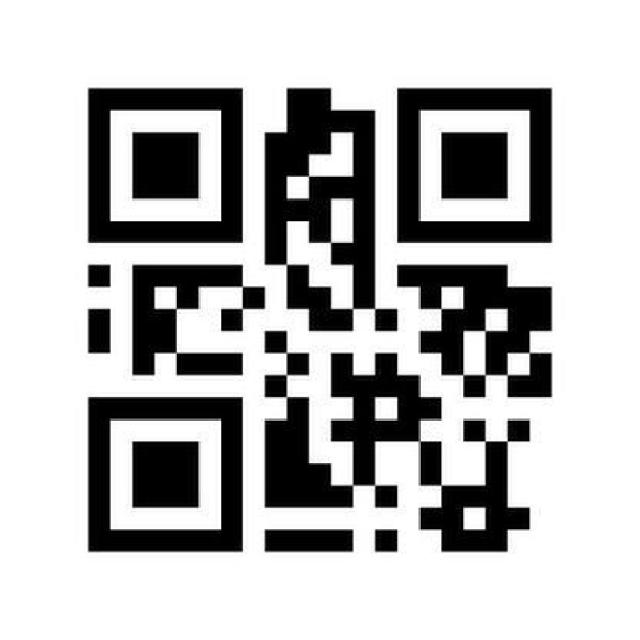QRCode: (72, 76, 563, 563)
